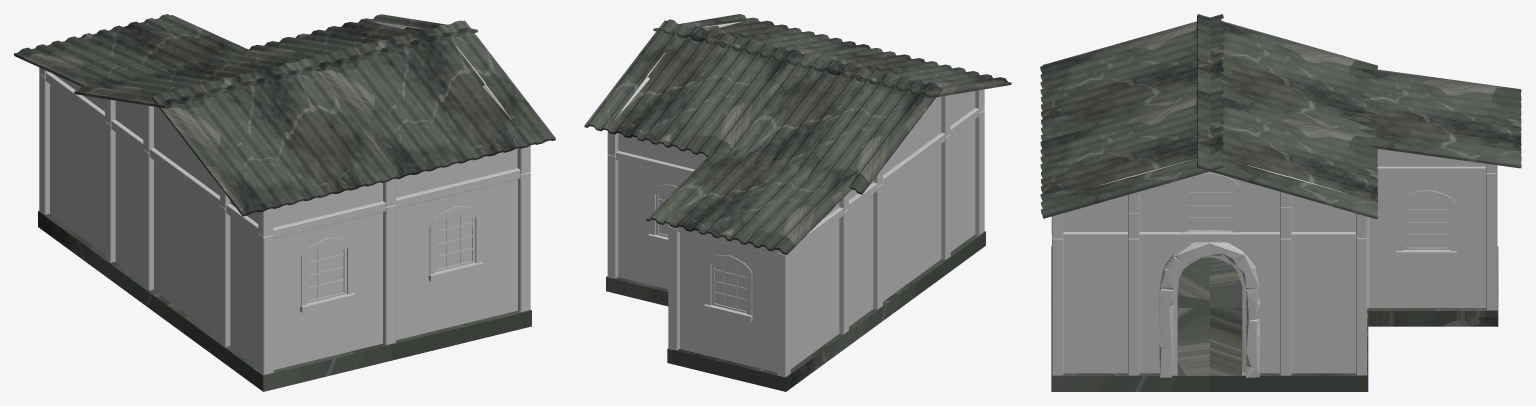
Rendered from House4.fbx.
3 renders of one model, left to right at view 1: azimuth 30°, elevation 25°; view 2: azimuth 150°, elevation 25°; view 3: azimuth 270°, elevation 25°, orthographic. The views are drawn at different scales.
Parts seen in each view (by area): view 1: House4_LOD0; view 2: House4_LOD0; view 3: House4_LOD0.
Boxes of the visible parts, box(x1,y1,x2,y2) form: House4_LOD0: box(14, 14, 555, 391); House4_LOD0: box(584, 14, 1011, 391); House4_LOD0: box(1040, 14, 1521, 391).
Size of what is drawn, in the model's own units: 551 by 405 by 739.
